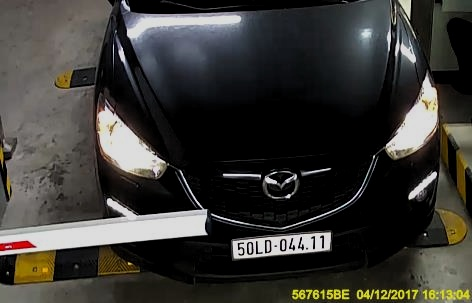plate: (227, 225, 337, 260)
